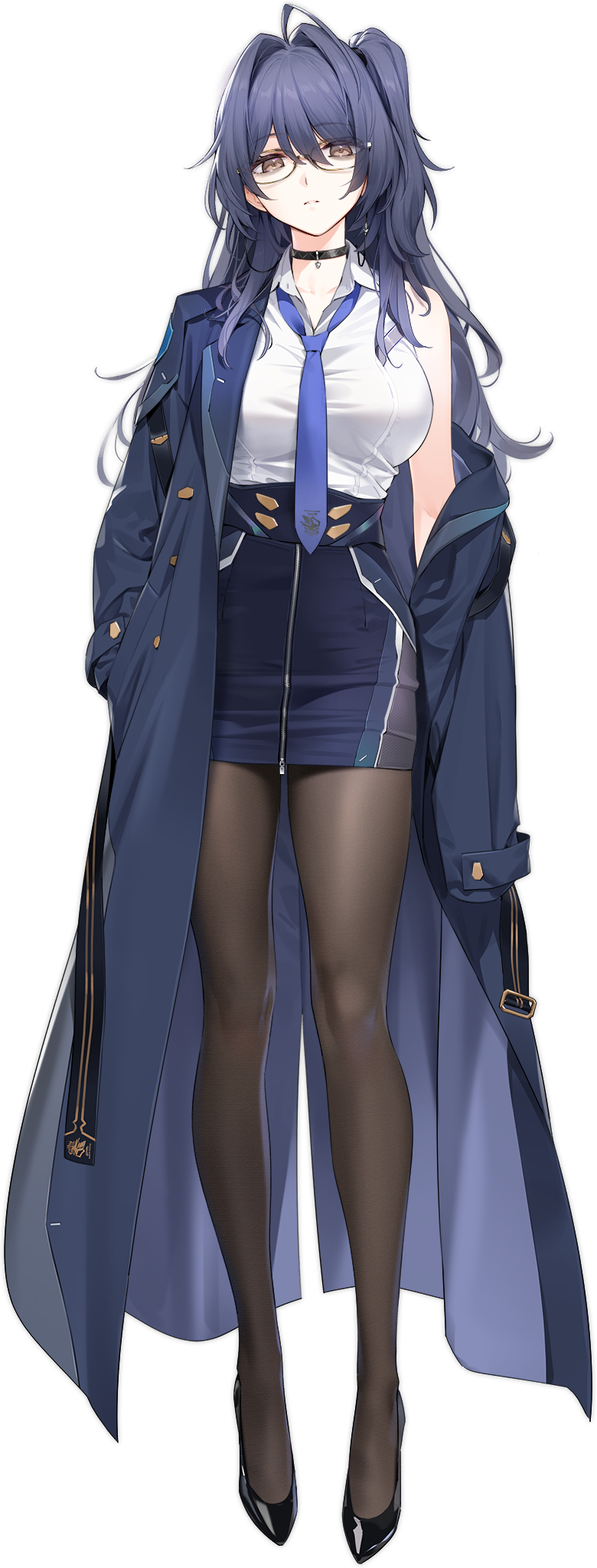person: (1, 2, 593, 1560)
